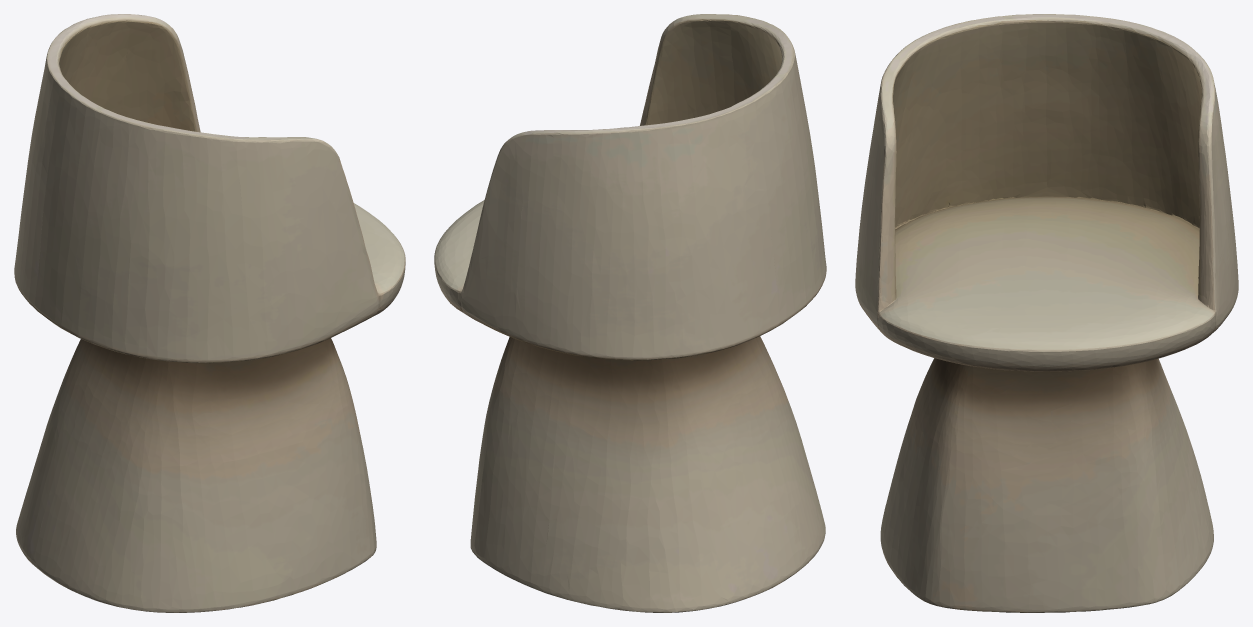
Rendered from volga.glb.
The picture shows the model from 3 angles, left to right: view 1: azimuth 30°, elevation 25°; view 2: azimuth 150°, elevation 25°; view 3: azimuth 270°, elevation 25°; orthographic projection.
Parts seen in each view (by area): view 1: world; view 2: world; view 3: world.
Part boxes in pixels (<box>): world: <box>14,14,405,612</box>; world: <box>434,14,826,612</box>; world: <box>855,14,1238,612</box>.
Size of the model in its own units: 0.7254 by 1 by 0.7368.
Materials: 1 (1 with a texture image).
